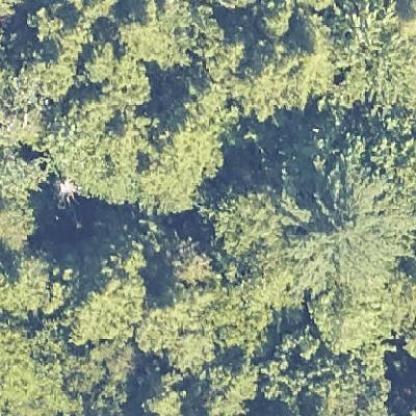tree-top: (46, 87, 231, 216), (280, 142, 415, 296), (259, 321, 396, 415), (324, 0, 414, 115), (0, 323, 109, 415), (64, 245, 148, 344), (109, 0, 215, 74), (14, 4, 95, 99), (201, 176, 283, 249), (0, 244, 77, 314), (194, 356, 266, 415), (132, 367, 191, 415)
